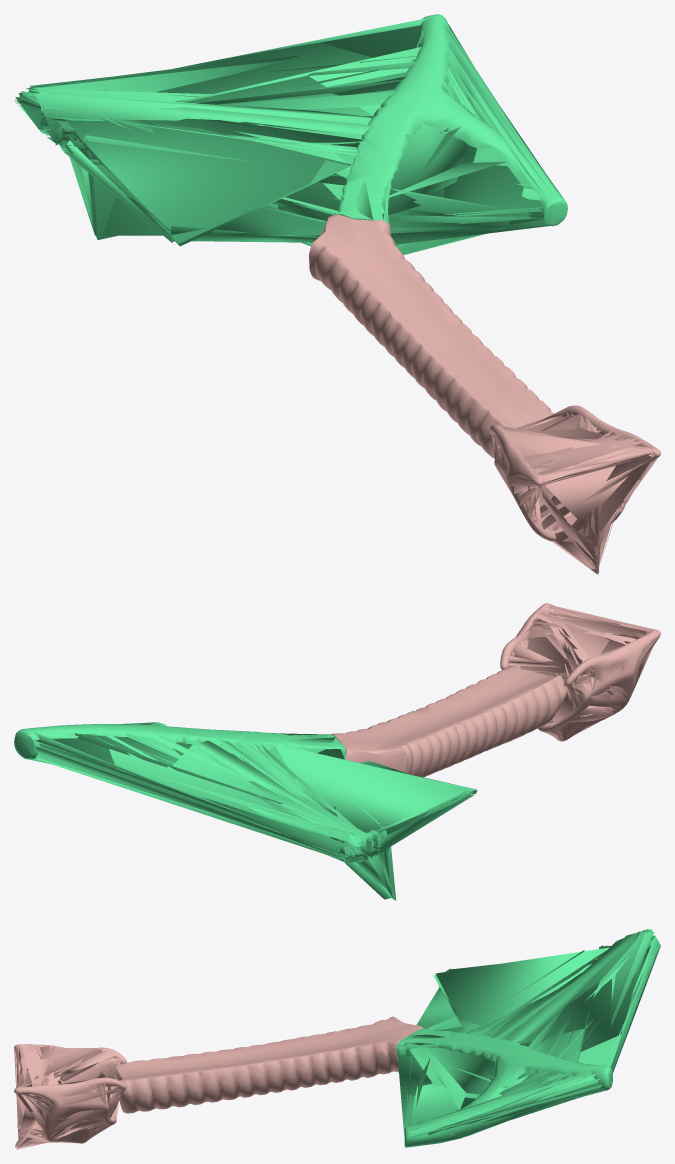
Rendered from organ-trachea-bronchi.glb.
3 renders of one model, top to bottom at view 1: azimuth 30°, elevation 25°; view 2: azimuth 150°, elevation 25°; view 3: azimuth 270°, elevation 25°, orthographic. The views are drawn at different scales.
Visible parts, largest first — view 1: Main_Bronchi, Trachea_Tube, Larynx_Cartilage; view 2: Main_Bronchi, Trachea_Tube, Larynx_Cartilage; view 3: Main_Bronchi, Trachea_Tube, Larynx_Cartilage.
Part boxes in pixels (left/top/right/bottom): Main_Bronchi: left=14, top=14, right=567, bottom=254; Trachea_Tube: left=309, top=214, right=553, bottom=458; Larynx_Cartilage: left=489, top=405, right=660, bottom=574; Main_Bronchi: left=14, top=722, right=477, bottom=900; Trachea_Tube: left=330, top=665, right=567, bottom=777; Larynx_Cartilage: left=500, top=603, right=660, bottom=741; Main_Bronchi: left=396, top=929, right=660, bottom=1147; Trachea_Tube: left=115, top=1016, right=423, bottom=1113; Larynx_Cartilage: left=14, top=1044, right=126, bottom=1149.
Bounding box in the file's own units: 0.2657 × 0.1388 × 0.4911.
